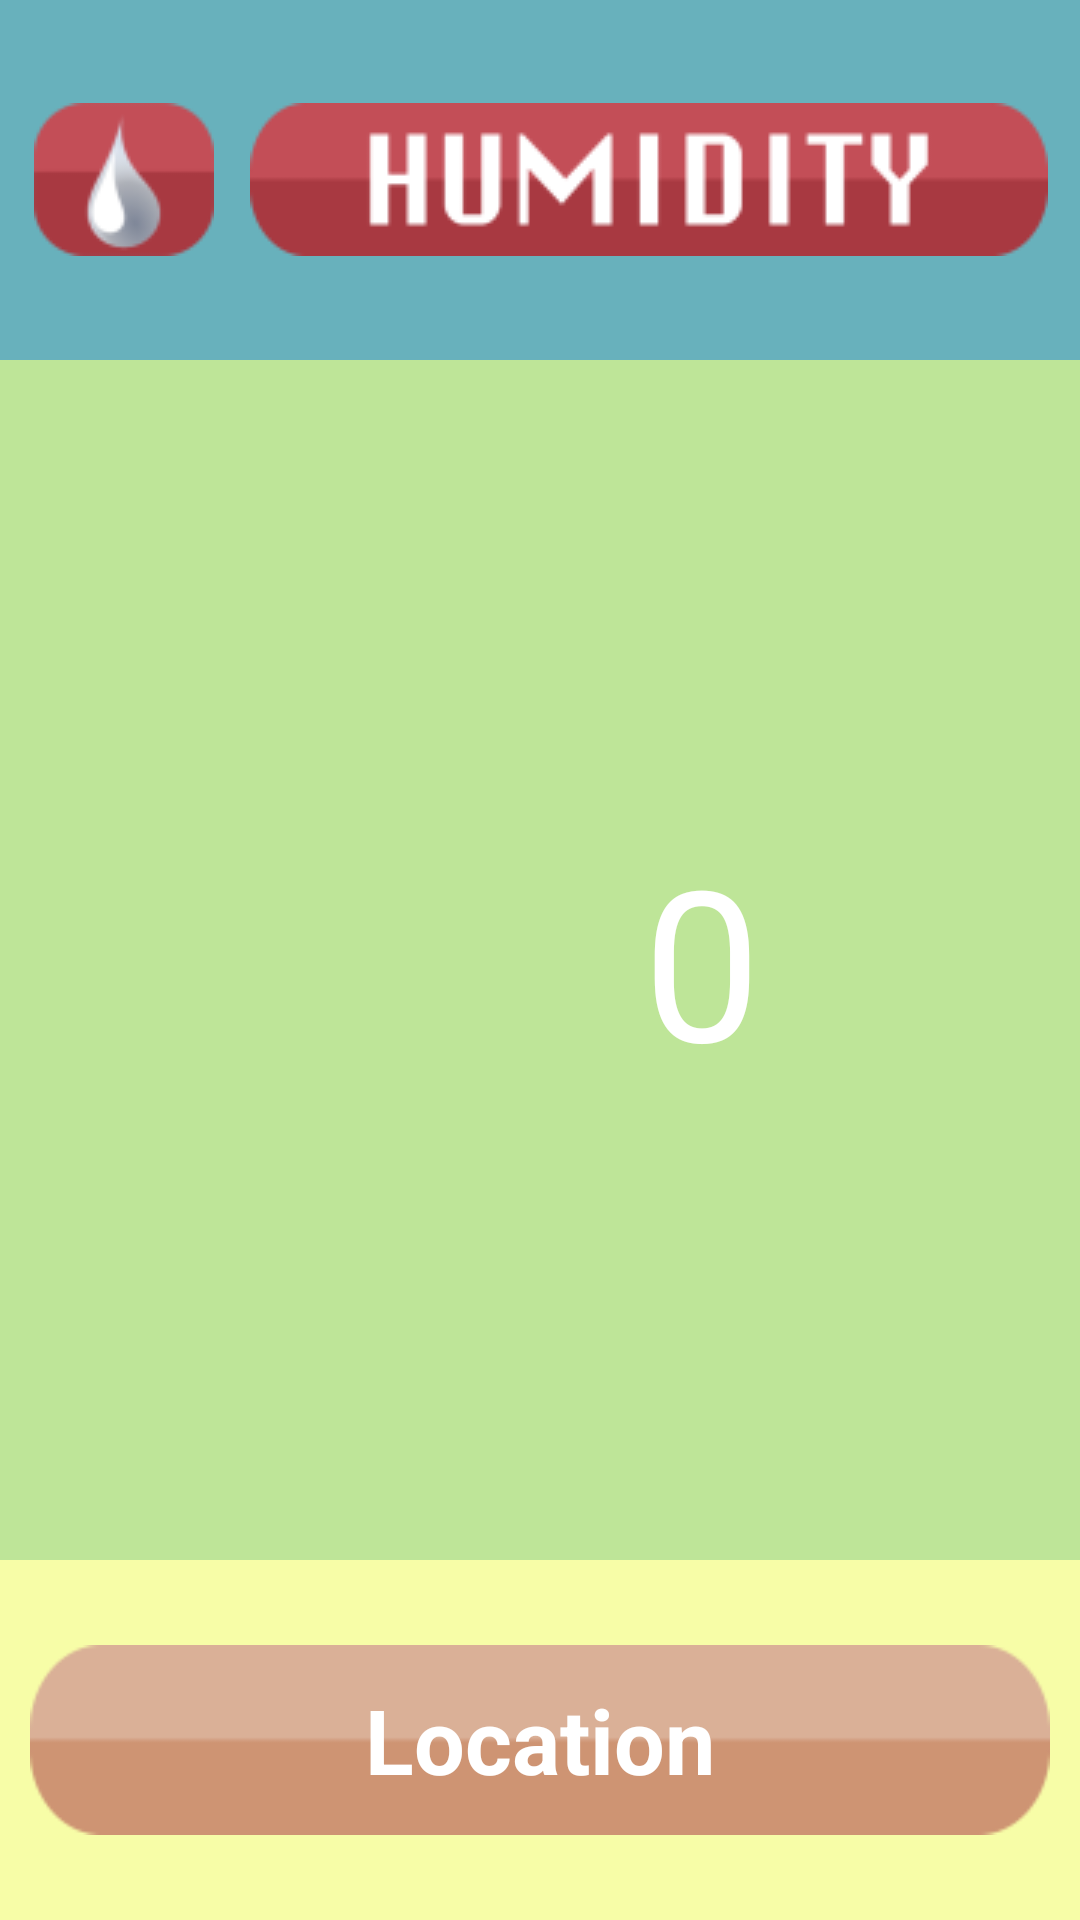

Point at icon controls on the screen. Image size 1080×1920, points as (x,y).
humidity top left: (124,179)
